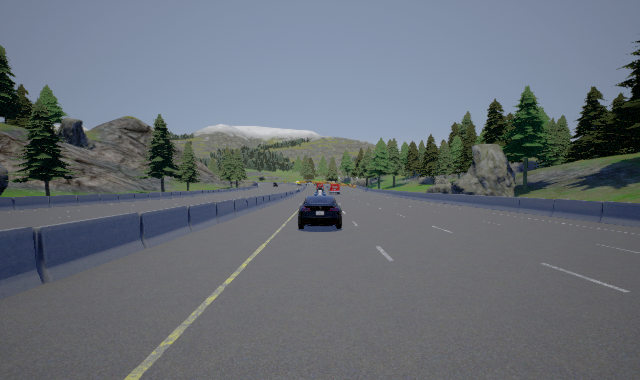vehicle: (298, 183, 342, 229)
